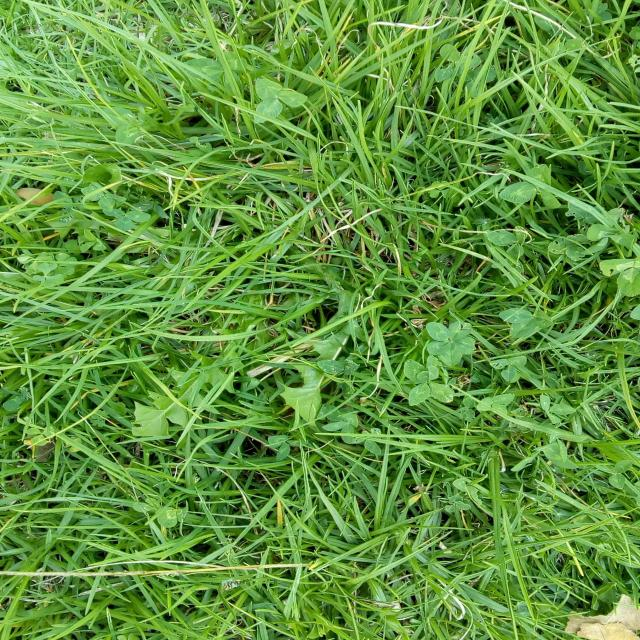Four Leaf Clover: (404, 361, 452, 406), (427, 321, 475, 358)
